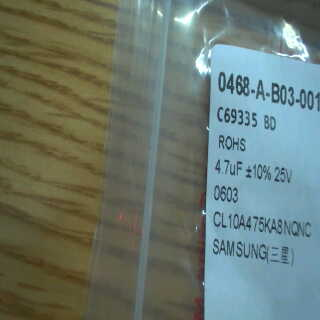4.7uF: (213, 157, 245, 181)
